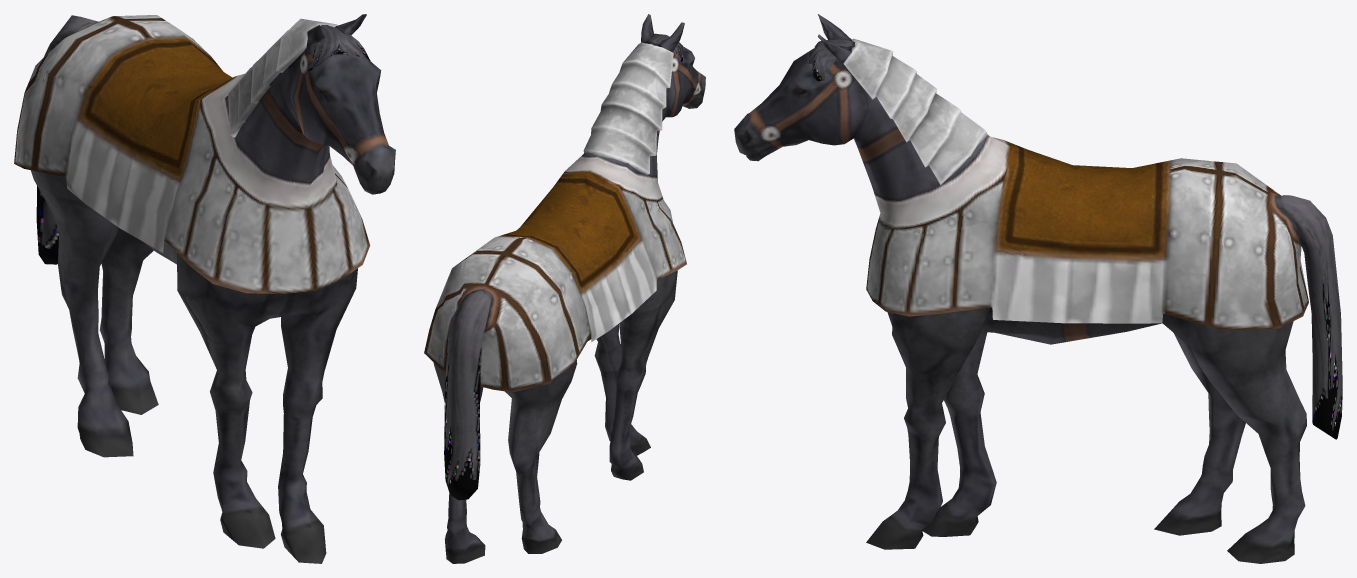
File: body-mediumcavalry.glb
3 renders of one model, left to right at view 1: azimuth 30°, elevation 25°; view 2: azimuth 150°, elevation 25°; view 3: azimuth 270°, elevation 25°, orthographic. The views are drawn at different scales.
Size of the model in its own units: 0.8892 by 2.51 by 2.68.
1 material, 1 textured.
